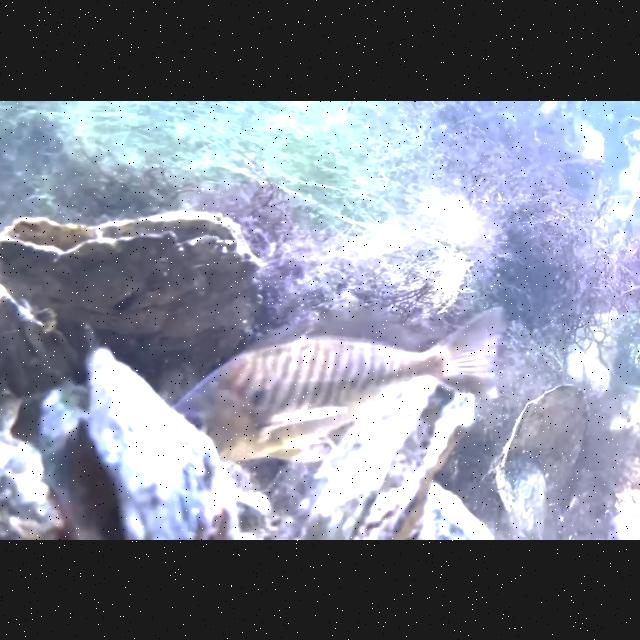Oyster-Closed: (502, 382, 592, 516), (0, 431, 64, 538)
Oyster-Open: (39, 345, 238, 539), (0, 208, 262, 352), (298, 373, 478, 539)
